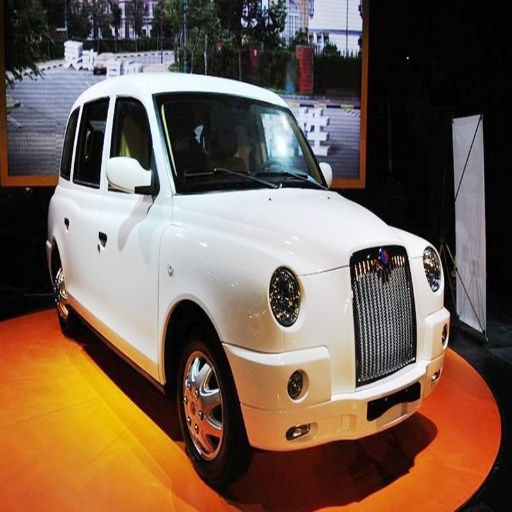front_bumper: (225, 247, 442, 445)
front_right_door: (85, 94, 169, 360)
front_right_light: (270, 269, 302, 324)
hood: (196, 190, 398, 273)
